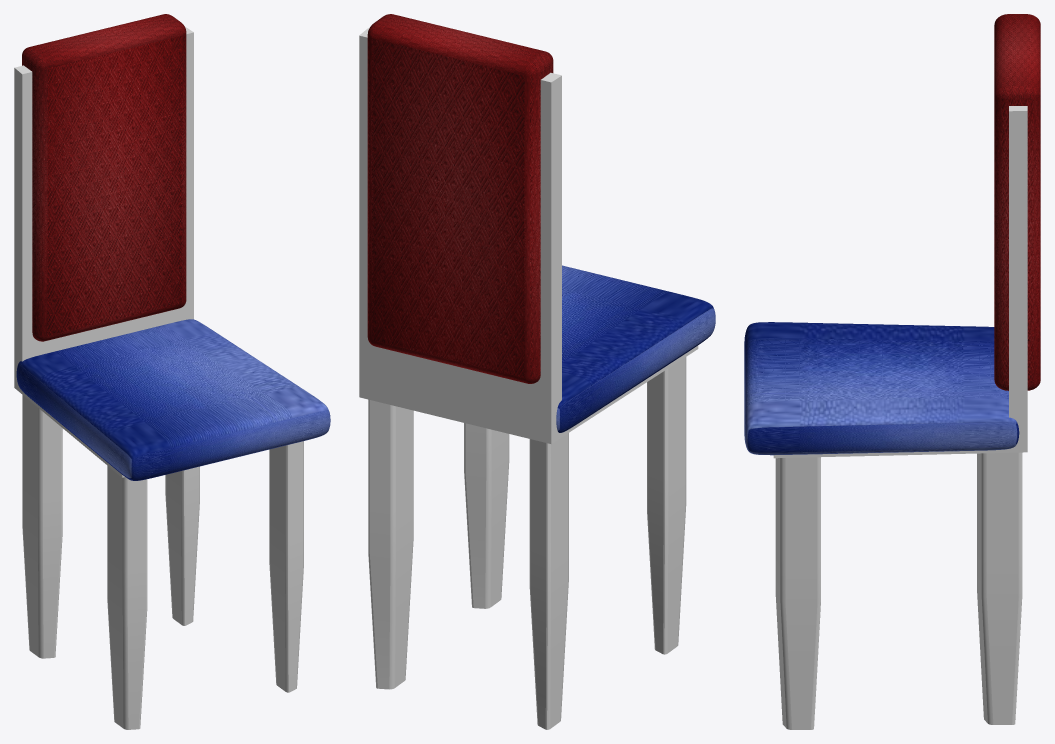
Rendered from Sillolda.gltf.
The picture shows the model from 3 angles, left to right: view 1: azimuth 30°, elevation 25°; view 2: azimuth 150°, elevation 25°; view 3: azimuth 270°, elevation 25°; orthographic projection. The views are drawn at different scales.
Visible parts, largest first — view 1: respaldar, silla, Asiento; view 2: silla, respaldar, Asiento; view 3: Asiento, silla, respaldar.
Boxes of the visible parts, left/top/right/bottom form: respaldar: left=22, top=14, right=186, bottom=341; silla: left=14, top=27, right=303, bottom=729; Asiento: left=16, top=319, right=330, bottom=480; silla: left=359, top=28, right=698, bottom=729; respaldar: left=367, top=14, right=553, bottom=383; Asiento: left=556, top=265, right=715, bottom=432; Asiento: left=744, top=322, right=1019, bottom=455; silla: left=773, top=106, right=1027, bottom=729; respaldar: left=994, top=14, right=1040, bottom=390.
Size of the model in its own units: 3.56 by 10.04 by 4.25.
3 materials, 2 textured.
